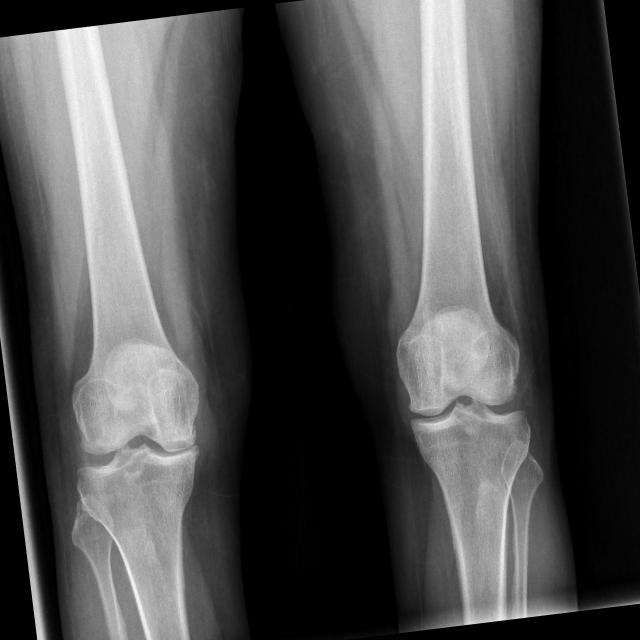Knee: (62, 372, 212, 511), (391, 336, 535, 478)
